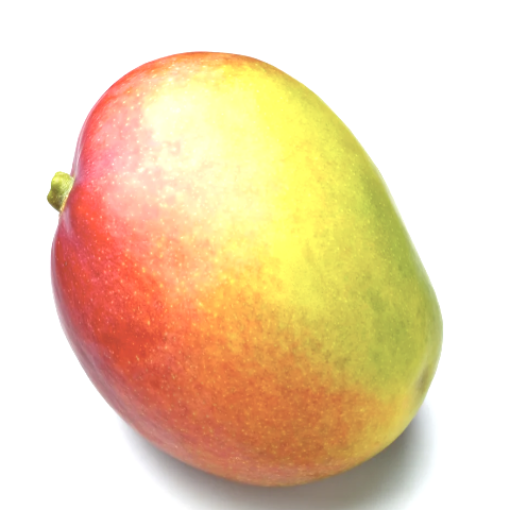mango: (12, 17, 479, 507)
